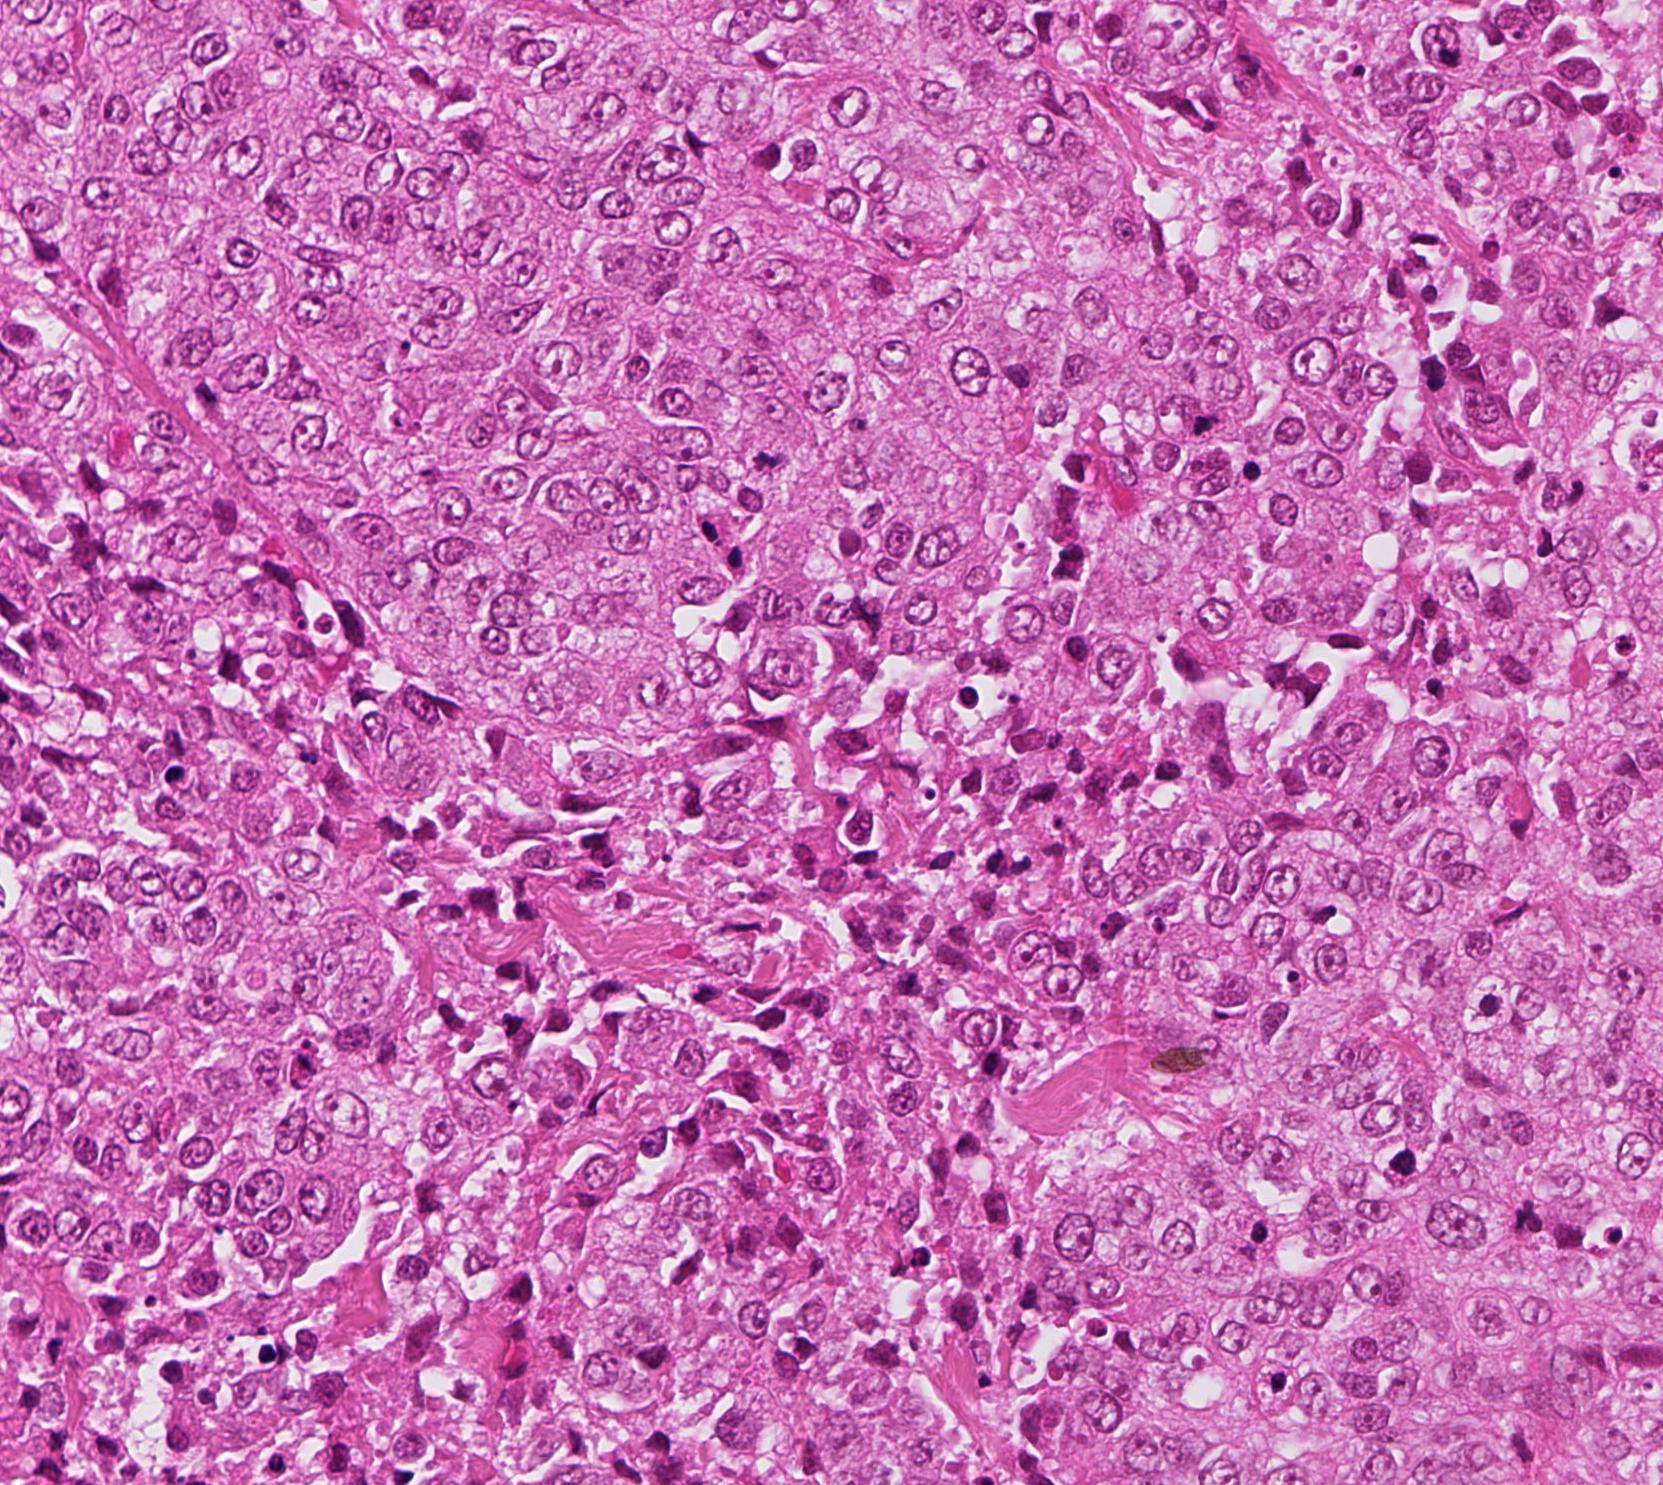mitosis: (733, 424, 791, 484)
